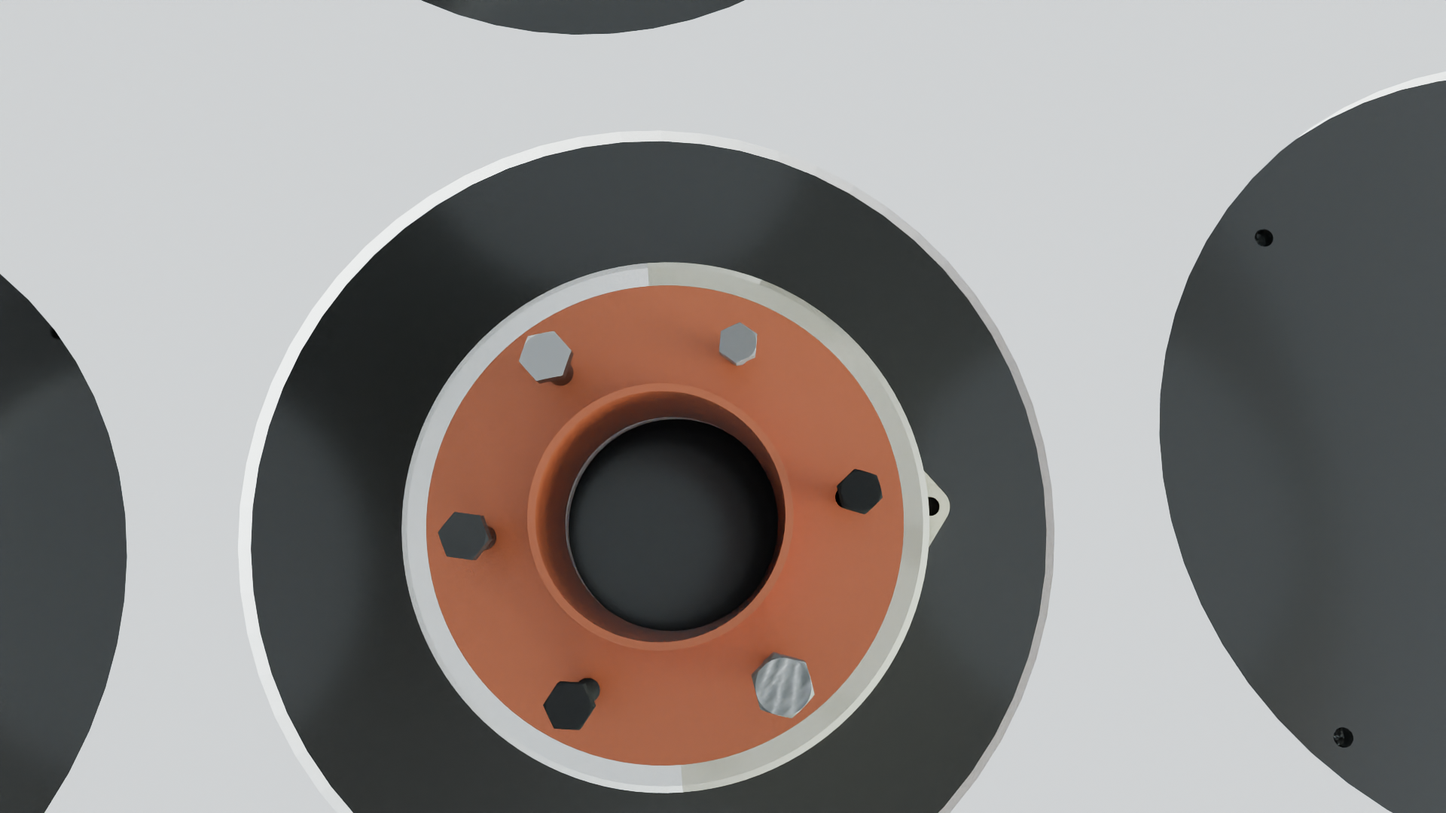bolt: (752, 654, 814, 718), (519, 331, 572, 381), (438, 512, 489, 560), (543, 683, 593, 730), (838, 469, 883, 513), (719, 322, 757, 364)
